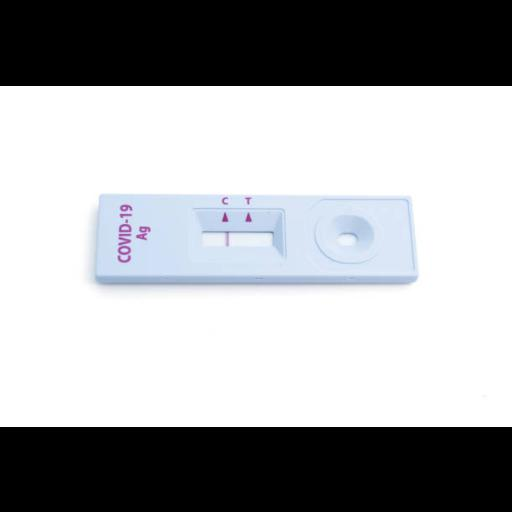Neg: (98, 193, 414, 279)
